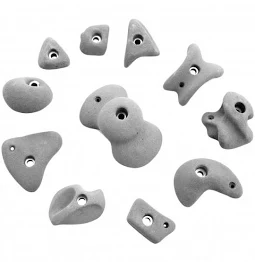hold: (78, 85, 158, 166), (161, 42, 223, 104), (0, 131, 59, 191), (172, 157, 241, 204), (201, 92, 252, 148), (48, 185, 103, 225), (128, 199, 174, 243), (123, 17, 158, 67), (1, 76, 51, 110), (38, 35, 68, 69), (78, 23, 107, 54)
